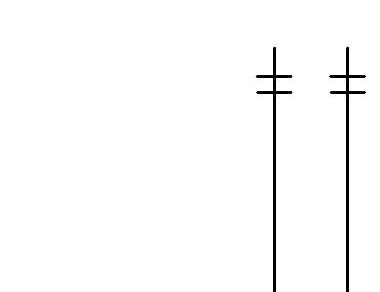115_buffer: (329, 75, 366, 94), (256, 75, 293, 94)
